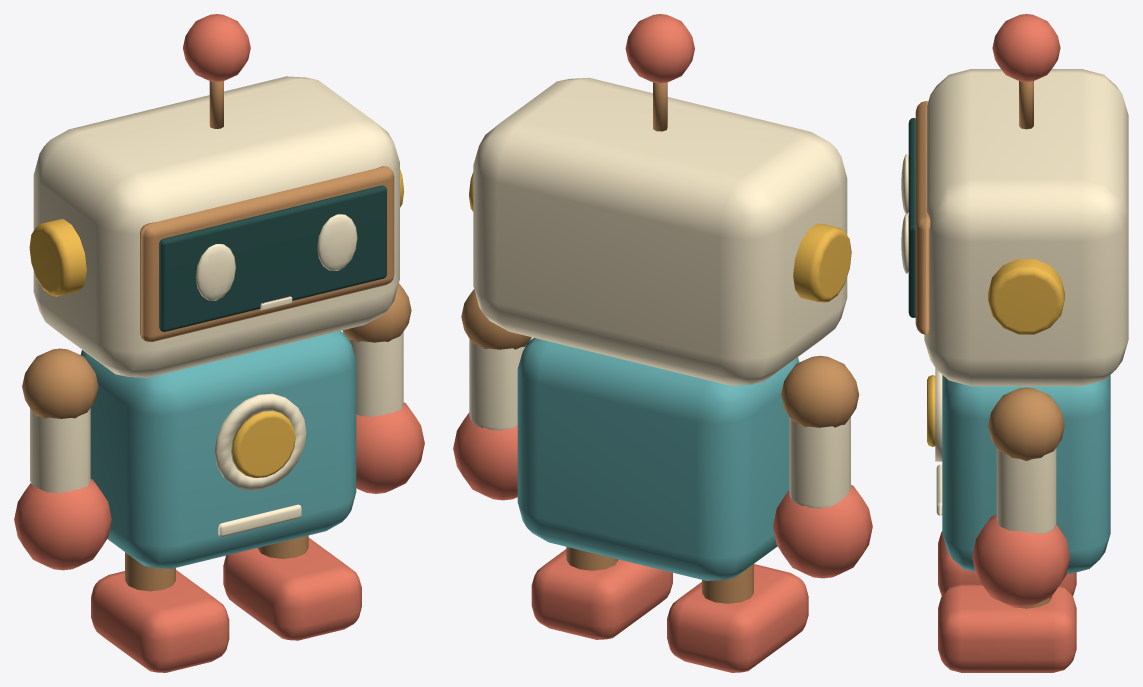
File: robot-CjspDR32.glb
The picture shows the model from 3 angles, left to right: view 1: azimuth 30°, elevation 25°; view 2: azimuth 150°, elevation 25°; view 3: azimuth 270°, elevation 25°; orthographic projection. The views are drawn at different scales.
Visible parts, largest first — view 1: robot_surfaces, armL_surfaces, armR_surfaces; view 2: robot_surfaces, armL_surfaces, armR_surfaces; view 3: robot_surfaces, armR_surfaces.
Boxes of the visible parts, <box> form: robot_surfaces: <box>29,14,404,672</box>; armL_surfaces: <box>14,348,111,570</box>; armR_surfaces: <box>342,283,424,493</box>; robot_surfaces: <box>469,14,851,672</box>; armL_surfaces: <box>773,355,872,578</box>; armR_surfaces: <box>453,289,531,500</box>; robot_surfaces: <box>901,14,1128,672</box>; armR_surfaces: <box>972,387,1069,607</box>.
Bounding box in the file's own units: 2.16 × 3.16 × 1.07.
